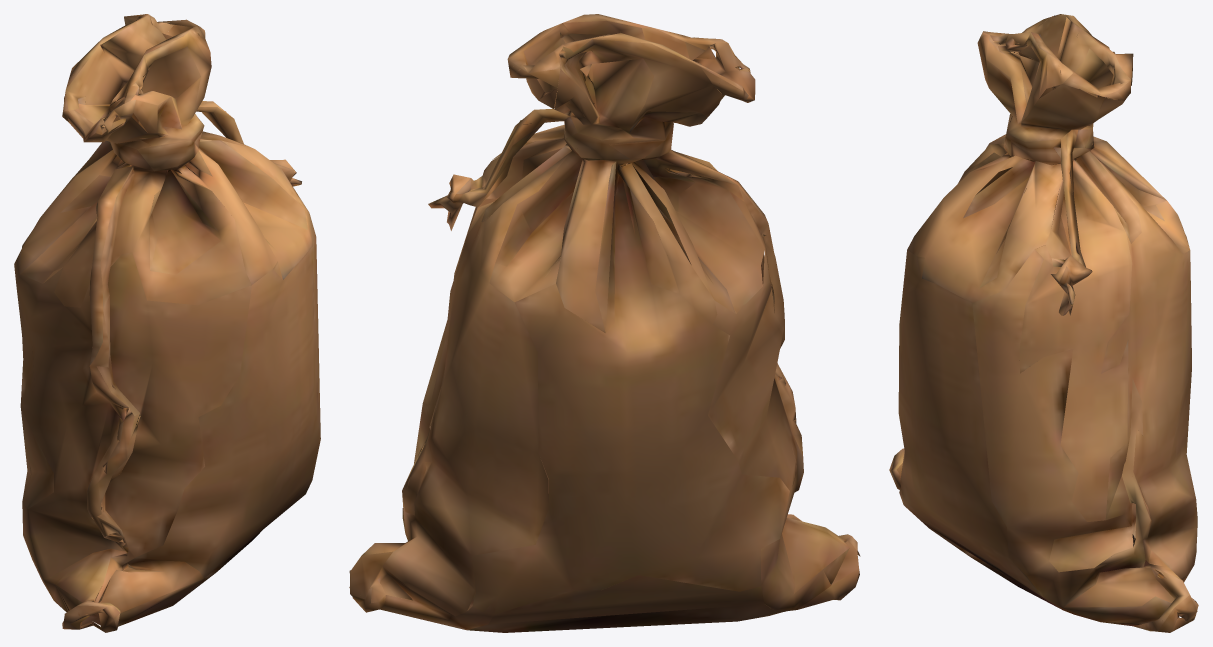
Rendered from saco.movil.glb.
The picture shows the model from 3 angles, left to right: view 1: azimuth 30°, elevation 25°; view 2: azimuth 150°, elevation 25°; view 3: azimuth 270°, elevation 25°; orthographic projection. The views are drawn at different scales.
Parts seen in each view (by area): view 1: geometry_0; view 2: geometry_0; view 3: geometry_0.
Boxes of the visible parts, bbox=[...] form: geometry_0: bbox=[14, 14, 320, 632]; geometry_0: bbox=[349, 14, 860, 632]; geometry_0: bbox=[889, 14, 1198, 632].
Size of the model in its own units: 0.4962 by 0.7495 by 0.3999.
1 material, 1 textured.
